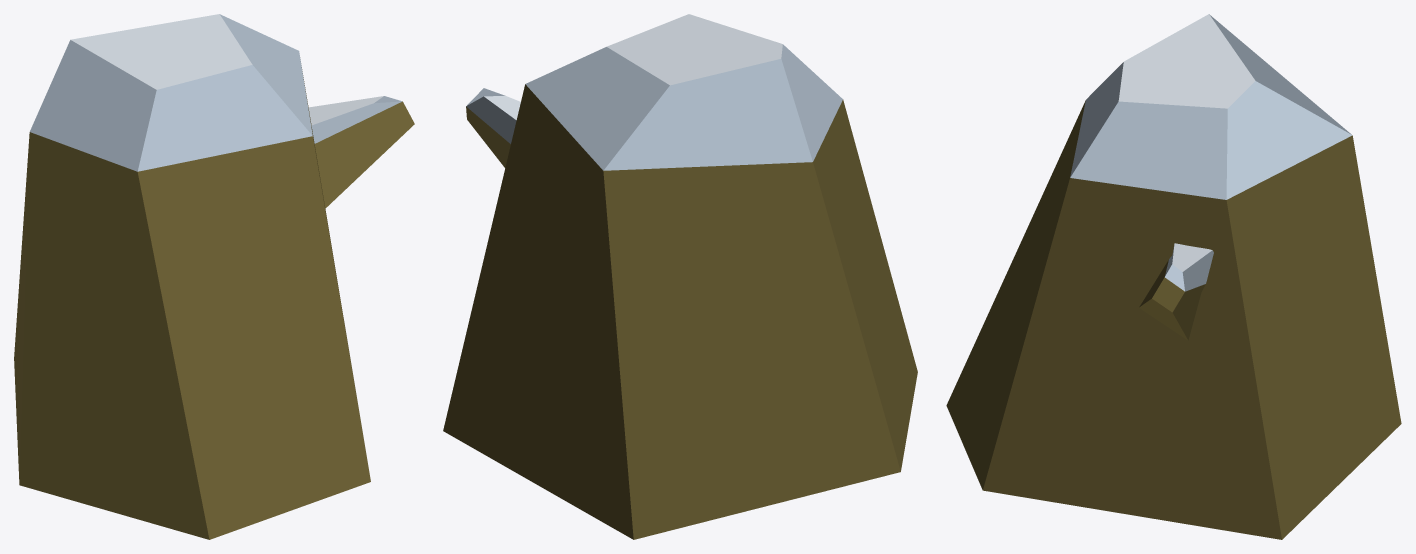
The model's file is StumpWinter1_Alt3.fbx.
3 views of the same model, side by side, from view 1: azimuth 30°, elevation 25°; view 2: azimuth 150°, elevation 25°; view 3: azimuth 270°, elevation 25° (orthographic). The views are drawn at different scales.
Parts seen in each view (by area): view 1: StumpWinter1_Alt3; view 2: StumpWinter1_Alt3; view 3: StumpWinter1_Alt3.
Boxes of the visible parts, x1,y1,x2,y2 form: StumpWinter1_Alt3: (14, 14, 414, 539); StumpWinter1_Alt3: (443, 14, 917, 539); StumpWinter1_Alt3: (946, 14, 1401, 539).
Bounding box in the file's own units: 0.5054 × 0.4796 × 0.5074.
